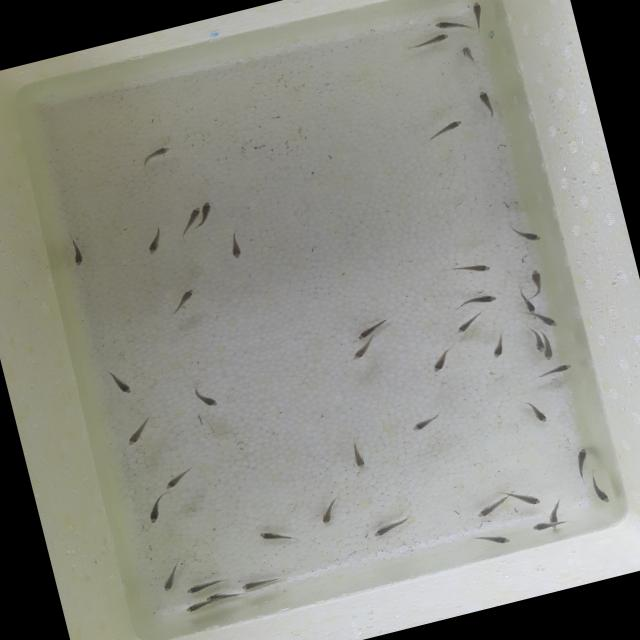fingerling: (117, 411, 165, 448), (168, 197, 208, 240), (417, 114, 467, 146), (133, 138, 180, 172), (444, 288, 504, 314), (182, 380, 222, 414), (448, 308, 492, 338), (222, 226, 255, 266), (467, 493, 512, 522), (154, 562, 190, 594), (352, 313, 393, 341), (256, 522, 300, 548), (139, 226, 171, 260), (406, 406, 442, 436), (62, 233, 92, 269), (239, 571, 290, 592), (472, 83, 500, 121), (348, 332, 384, 360), (158, 464, 194, 492), (404, 32, 452, 53), (425, 344, 458, 374), (451, 257, 494, 280), (510, 220, 545, 248), (534, 360, 580, 380), (508, 484, 541, 511), (476, 526, 513, 550), (528, 514, 572, 534), (520, 399, 550, 428), (567, 445, 595, 476), (429, 13, 466, 36), (168, 284, 200, 310), (368, 519, 407, 540), (182, 578, 222, 598), (544, 498, 568, 530), (533, 306, 562, 332), (140, 498, 166, 527), (202, 588, 243, 606), (106, 368, 132, 396), (314, 498, 339, 526), (180, 597, 218, 615), (538, 330, 559, 362), (590, 476, 612, 505), (349, 439, 368, 471), (527, 324, 547, 354), (196, 200, 217, 228), (488, 330, 508, 358), (520, 285, 538, 316), (469, 0, 489, 24), (528, 266, 544, 292), (462, 44, 476, 61)
